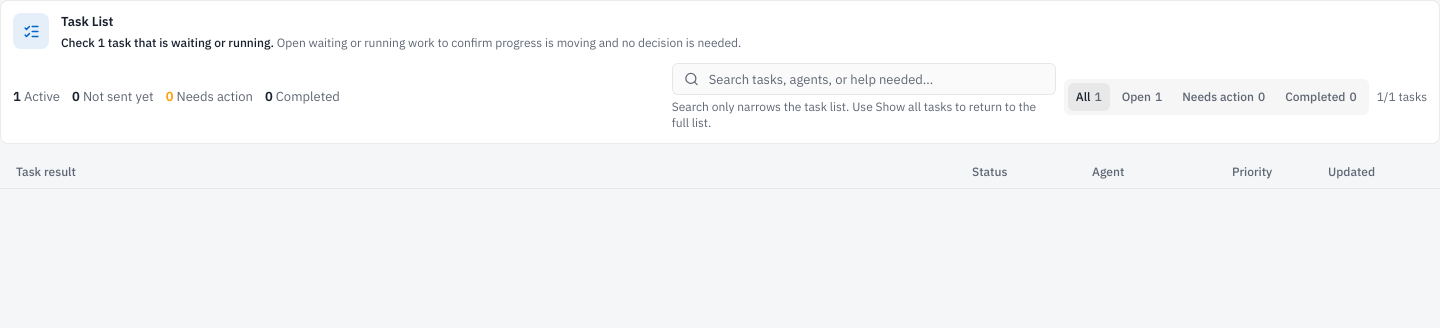
Test: ListView › does not match hidden agent ids in task list search
Type "agent-hidden-42" into the search field named "search task list".
click(864, 79); type("agent-hidden-42")  # box x1=672 y1=63 x2=1056 y2=95
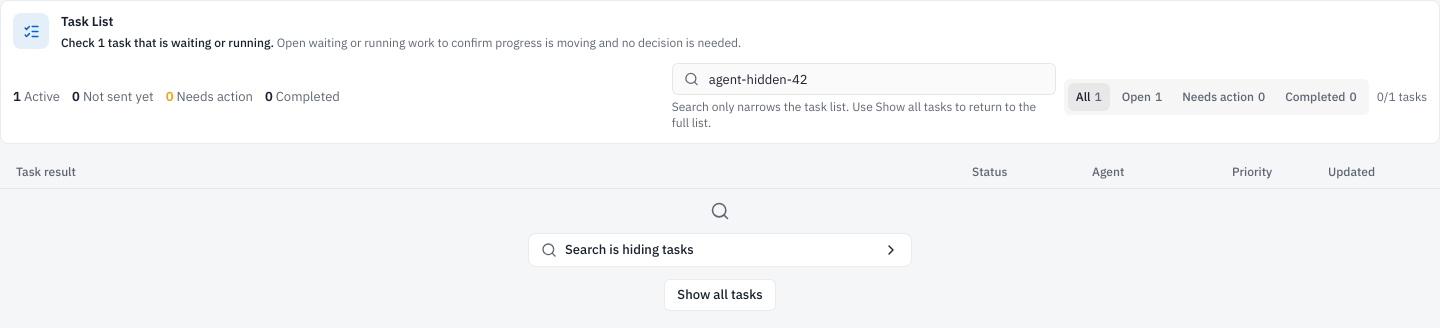
expect the message with test id "list-filter-empty" shows "Search is hiding tasks": met, box x1=529 y1=234 x2=911 y2=266
expect the button "Write customer handoff note" is gone: met
